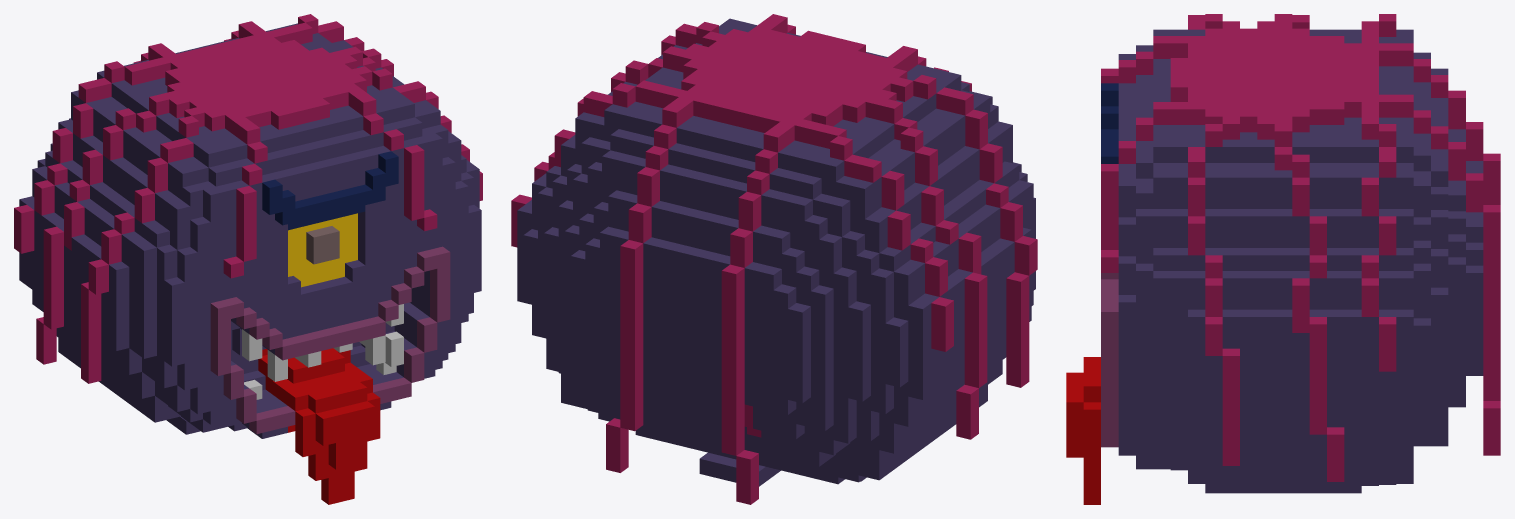
The model's file is JokerWarriror-1.obj.
3 views of the same model, side by side, from view 1: azimuth 30°, elevation 25°; view 2: azimuth 150°, elevation 25°; view 3: azimuth 270°, elevation 25° (orthographic). The views are drawn at different scales.
Size of the model in its own units: 3 by 2.7 by 2.5.
Materials: 1 (1 with a texture image).
